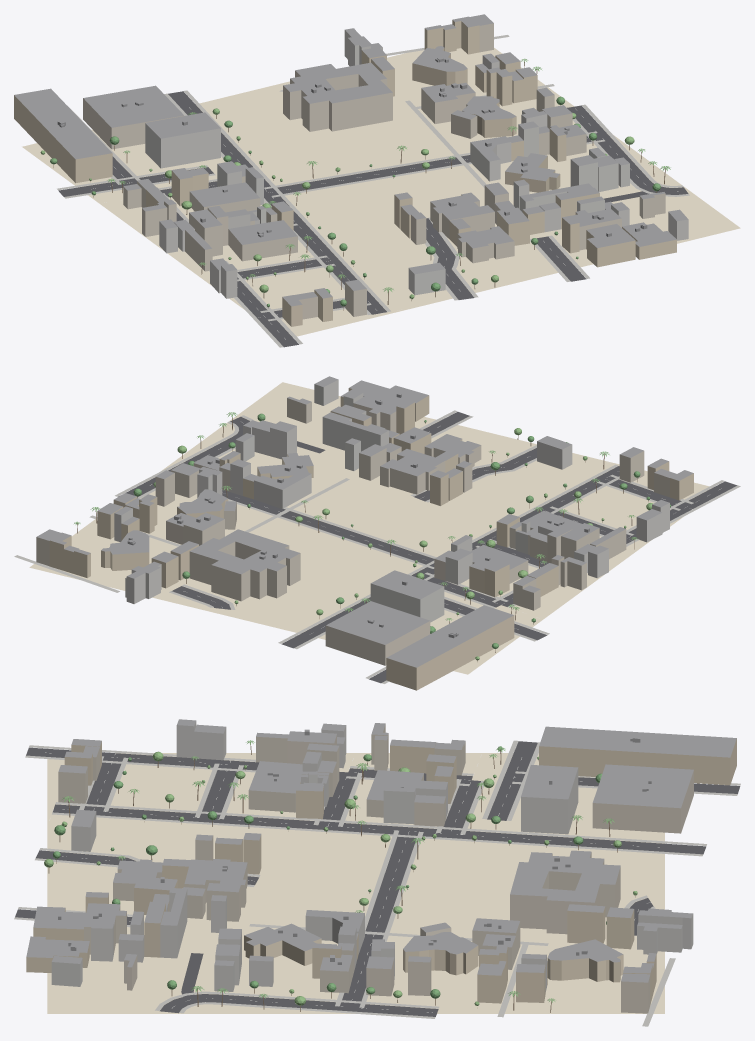
The model's file is tile_4_-2.glb.
3 views of the same model, one above another, from view 1: azimuth 30°, elevation 25°; view 2: azimuth 150°, elevation 25°; view 3: azimuth 270°, elevation 25° (orthographic). The views are drawn at different scales.
Visible parts, largest first — view 1: nature_ground, buildings_roof, buildings_concrete_warm, buildings_sandstone, buildings_concrete_light, roads_asphalt, roads_sidewalk, nature_foliage_b, nature_foliage_a, nature_palm_leaf; view 2: nature_ground, buildings_roof, buildings_concrete_warm, buildings_sandstone, buildings_concrete_light, roads_asphalt, roads_sidewalk, nature_foliage_b, nature_foliage_a, nature_palm_leaf; view 3: nature_ground, buildings_roof, roads_asphalt, buildings_sandstone, buildings_concrete_warm, buildings_concrete_light, roads_sidewalk, nature_foliage_b, nature_foliage_a, nature_palm_leaf, nature_trunk.
Boxes of the visible parts, <box> form: nature_ground: <box>22,48,740,336</box>; buildings_roof: <box>14,14,688,306</box>; buildings_concrete_warm: <box>83,23,665,319</box>; buildings_sandstone: <box>14,20,676,326</box>; buildings_concrete_light: <box>145,30,688,298</box>; roads_asphalt: <box>58,91,688,347</box>; roads_sidewalk: <box>57,35,689,347</box>; nature_foliage_b: <box>40,108,634,299</box>; nature_foliage_a: <box>50,96,660,307</box>; nature_palm_leaf: <box>107,58,670,292</box>; nature_ground: <box>29,382,711,674</box>; buildings_roof: <box>37,376,693,667</box>; buildings_concrete_warm: <box>36,398,669,665</box>; buildings_sandstone: <box>49,388,693,690</box>; buildings_concrete_light: <box>114,379,669,622</box>; roads_asphalt: <box>118,412,737,683</box>; roads_sidewalk: <box>14,410,740,683</box>; nature_foliage_b: <box>153,428,653,660</box>; nature_foliage_a: <box>133,413,670,648</box>; nature_palm_leaf: <box>74,412,637,620</box>; nature_ground: <box>47,753,664,1013</box>; buildings_roof: <box>26,719,736,982</box>; roads_asphalt: <box>15,741,740,1016</box>; buildings_sandstone: <box>26,738,736,1004</box>; buildings_concrete_warm: <box>58,724,693,1013</box>; buildings_concrete_light: <box>51,721,693,991</box>; roads_sidewalk: <box>14,740,740,1026</box>; nature_foliage_b: <box>44,751,637,1005</box>; nature_foliage_a: <box>53,746,606,998</box>; nature_palm_leaf: <box>62,740,614,1002</box>; nature_trunk: <box>48,744,635,1012</box>.
Size of the model in its own units: 274 by 17.34 by 294.
